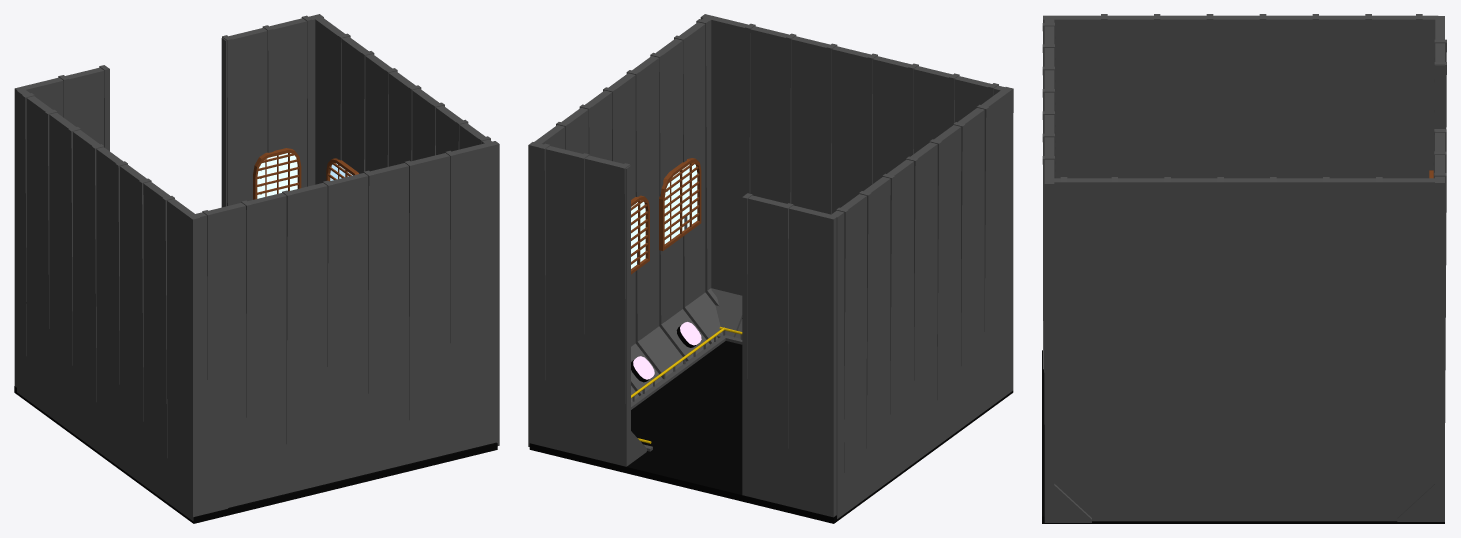
The model's file is Room1 (2).fbx.
The picture shows the model from 3 angles, left to right: view 1: azimuth 30°, elevation 25°; view 2: azimuth 150°, elevation 25°; view 3: azimuth 270°, elevation 25°; orthographic projection. The views are drawn at different scales.
Parts seen in each view (by area): view 1: Wall4.002, Wall1.003, WalktroughWall1.004, Wall3.001, Room1; view 2: WalktroughWall1.004, Wall1.003, Wall4.002, Wall3.001, Room1; view 3: Wall3.001, Wall1.003, Wall4.002, WalktroughWall1.004, Room1.
Part boxes in pixels (left/top/right/bottom): Wall4.002: left=191, top=141, right=499, bottom=507; Wall1.003: left=16, top=89, right=227, bottom=520; WalktroughWall1.004: left=14, top=14, right=323, bottom=387; Wall3.001: left=315, top=17, right=491, bottom=184; Room1: left=14, top=386, right=497, bottom=523; WalktroughWall1.004: left=528, top=142, right=837, bottom=517; Wall1.003: left=830, top=87, right=1013, bottom=518; Wall4.002: left=700, top=14, right=1009, bottom=344; Wall3.001: left=534, top=17, right=725, bottom=409; Room1: left=529, top=341, right=1013, bottom=523; Wall3.001: left=1045, top=177, right=1434, bottom=521; Wall1.003: left=1043, top=14, right=1438, bottom=369; Wall4.002: left=1042, top=17, right=1091, bottom=522; WalktroughWall1.004: left=1397, top=16, right=1446, bottom=521; Room1: left=1042, top=350, right=1444, bottom=523.
Size of the model in its own units: 12018 by 11367 by 12140.
